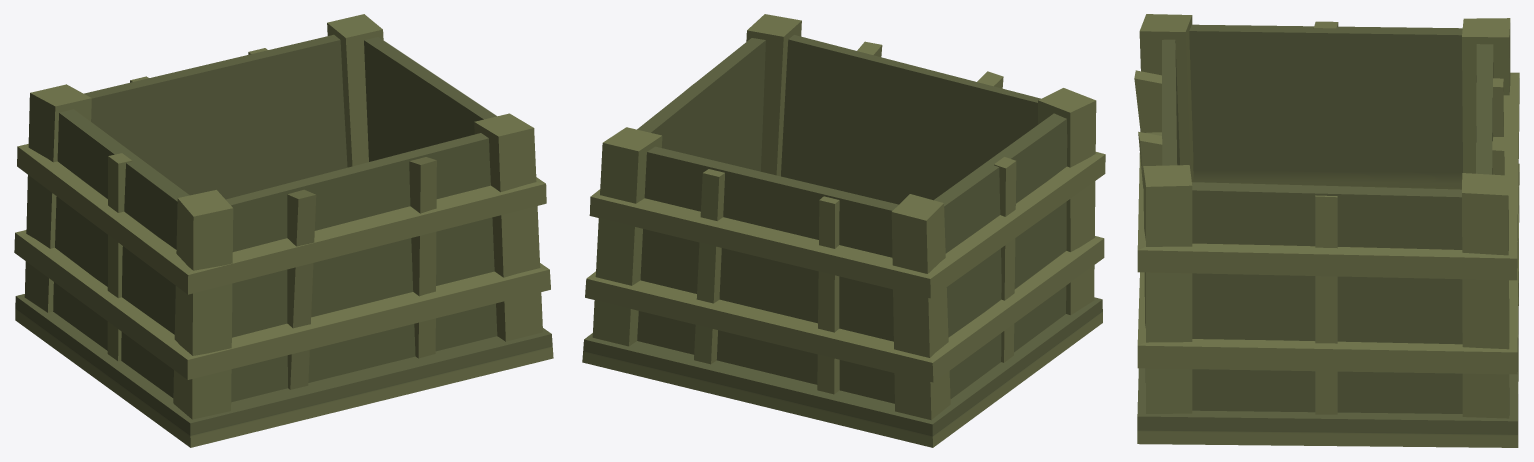
The model's file is SM_Prop_Box_02.fbx.
The picture shows the model from 3 angles, left to right: view 1: azimuth 30°, elevation 25°; view 2: azimuth 150°, elevation 25°; view 3: azimuth 270°, elevation 25°; orthographic projection. The views are drawn at different scales.
Visible parts, largest first — view 1: SM_Prop_Box_02; view 2: SM_Prop_Box_02; view 3: SM_Prop_Box_02.
Boxes of the visible parts, bbox=[...] form: SM_Prop_Box_02: bbox=[14, 14, 553, 447]; SM_Prop_Box_02: bbox=[582, 14, 1105, 447]; SM_Prop_Box_02: bbox=[1134, 14, 1519, 447].
Bounding box in the file's own units: 57.45 × 35.71 × 48.96.
